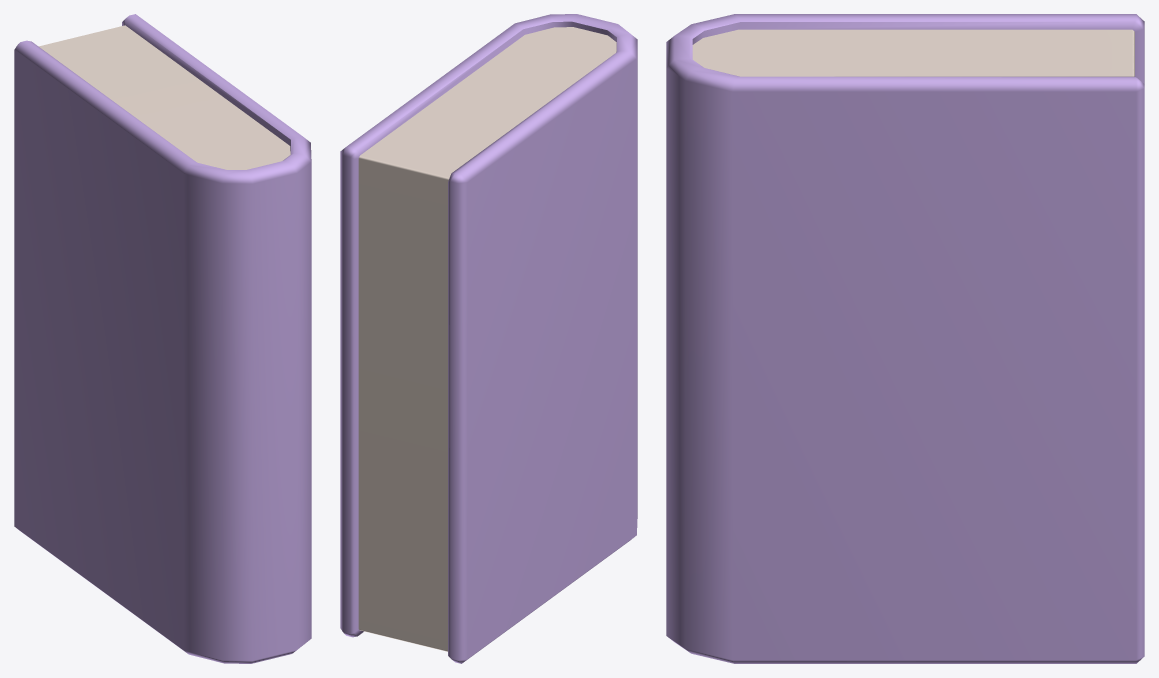
Rendered from Book_7.glb.
The picture shows the model from 3 angles, left to right: view 1: azimuth 30°, elevation 25°; view 2: azimuth 150°, elevation 25°; view 3: azimuth 270°, elevation 25°; orthographic projection. The views are drawn at different scales.
Visible parts, largest first — view 1: Book_7; view 2: Book_7; view 3: Book_7.
Part boxes in pixels (x1,y1,x2,y2): Book_7: (14,14,311,663); Book_7: (340,14,637,663); Book_7: (666,14,1144,663).
Bounding box in the file's own units: 0.0876 × 0.3221 × 0.2393.
Materials: 1 (1 with a texture image).
